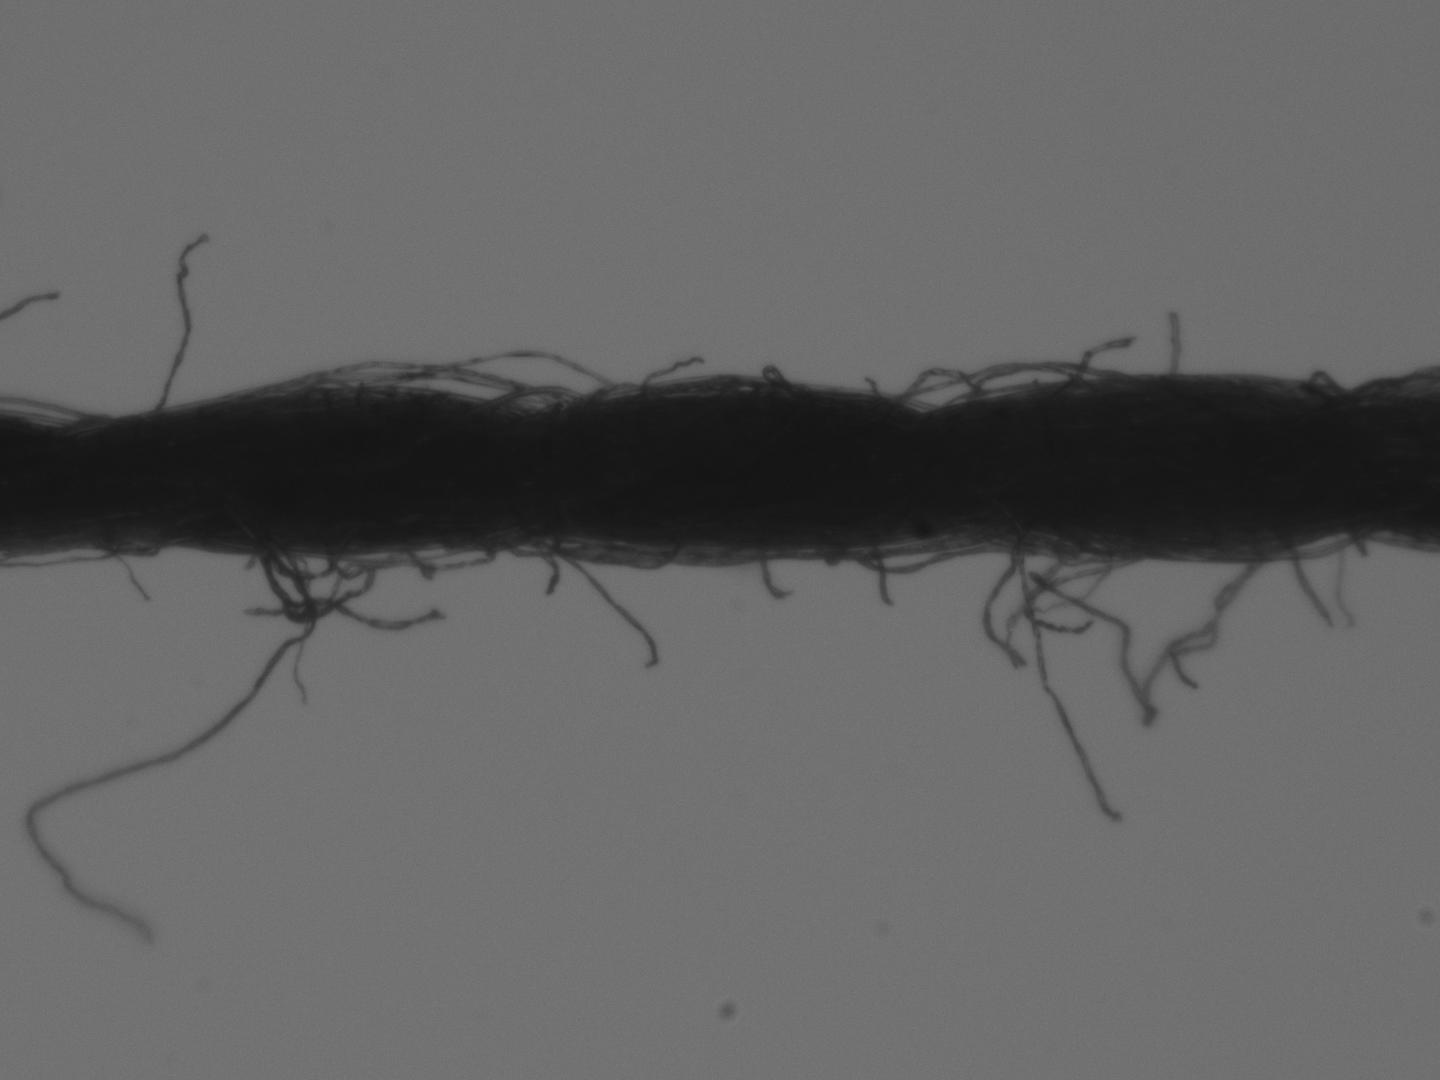loop_fiber: (378, 346, 612, 407), (878, 358, 1142, 411), (246, 530, 382, 627), (827, 518, 1009, 580), (881, 361, 982, 421), (455, 381, 587, 424), (390, 528, 502, 576), (1295, 364, 1362, 411)
protruding_fiber: (147, 229, 209, 413), (1159, 309, 1186, 395), (754, 547, 794, 601)
